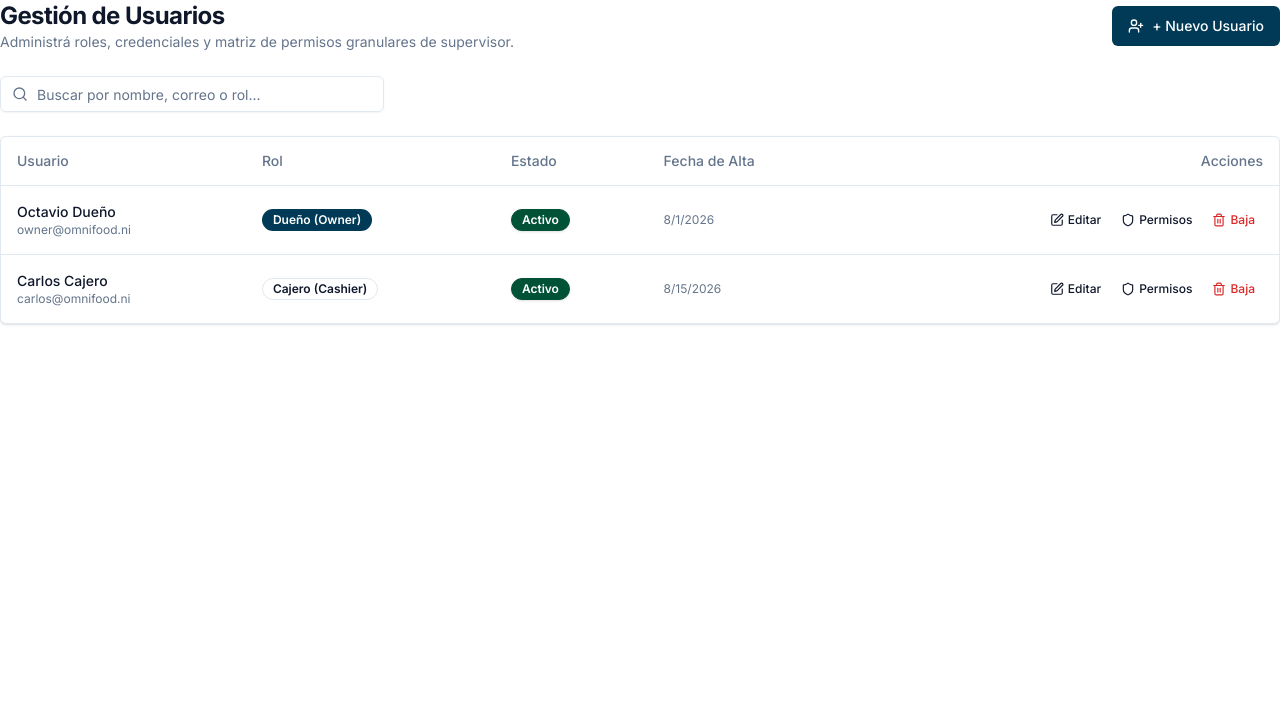
Test case: W8 — Users & Permissions Integration Suite (Real React Query + UI) › opens create user modal, enforces Zod validation, and shows error alert on invalid PIN
The image size is (1280, 720).
Expected: the text "+ Nuevo Usuario" is shown, [1152, 16, 1264, 36]
Click the button "+ Nuevo Usuario" at [1196, 26], box [1112, 6, 1279, 46]
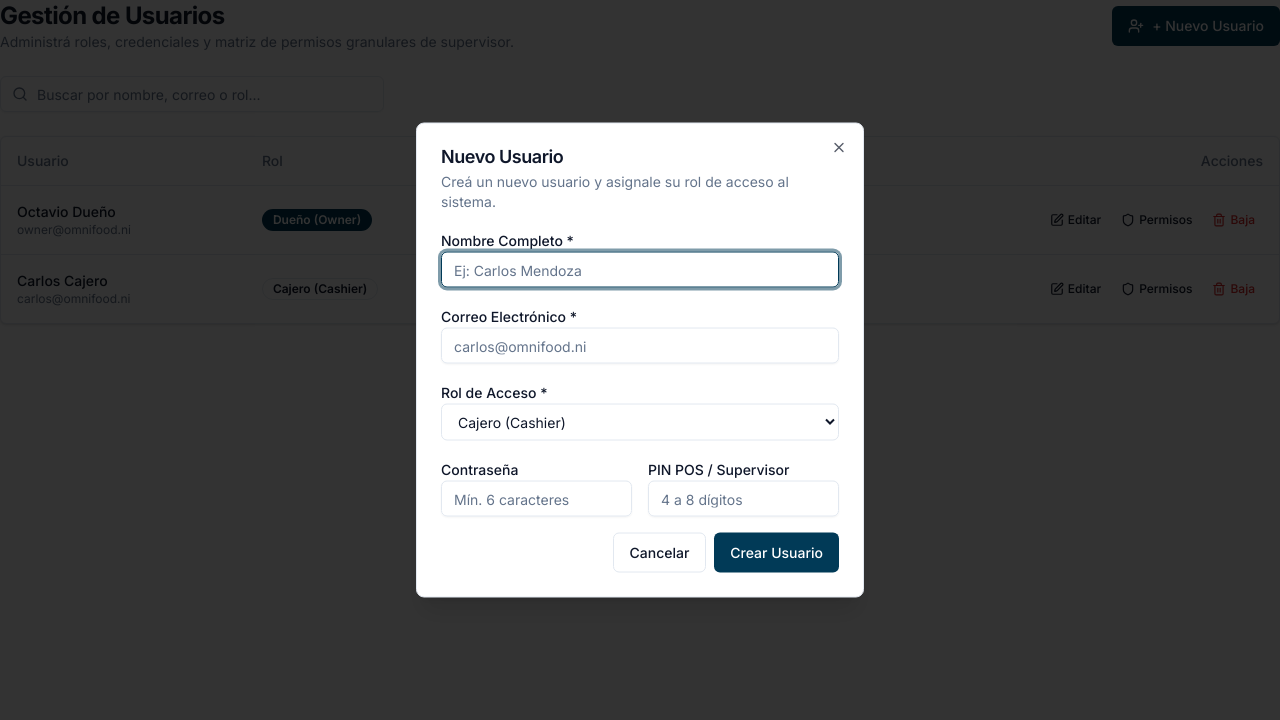
Now the heading "Nuevo Usuario" is shown, box [441, 146, 563, 166]
Type "A" into the field with placeholder "Ej: Carlos Mendoza" at [640, 270], box [441, 252, 839, 288]
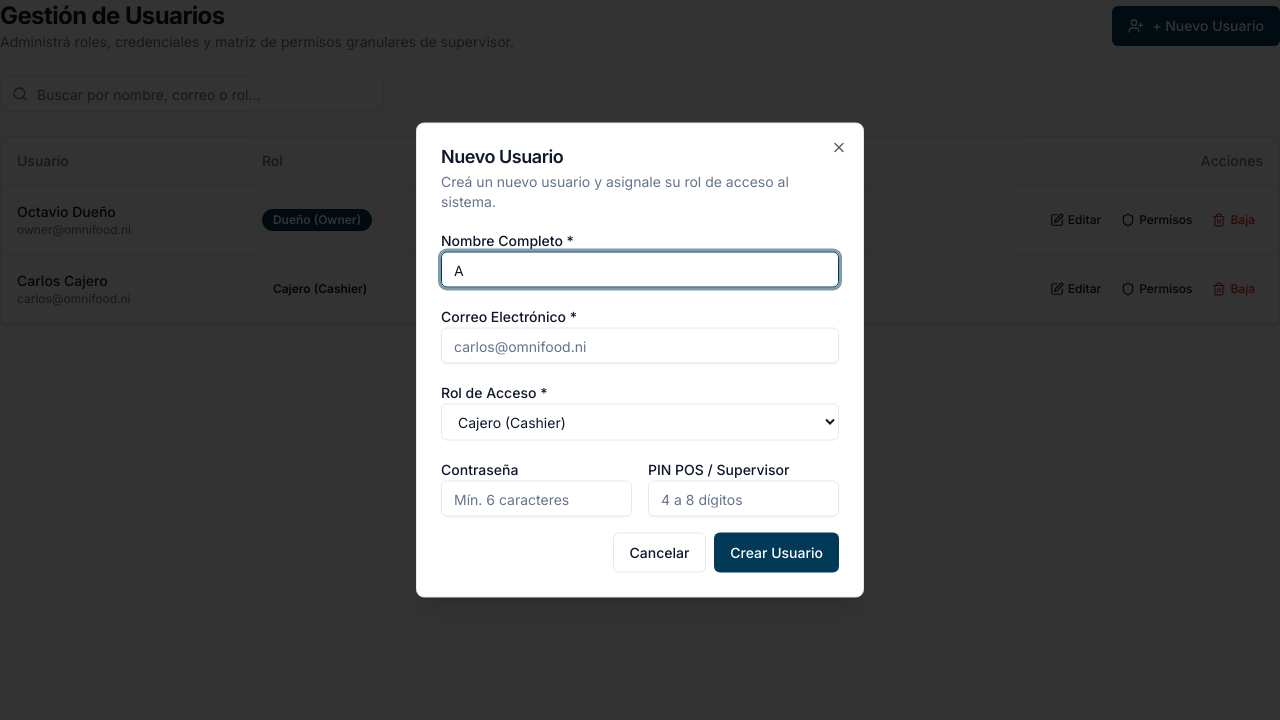
Type "valida@omnifood.ni" into the field with placeholder "carlos@omnifood.ni" at [640, 346], box [441, 328, 839, 364]
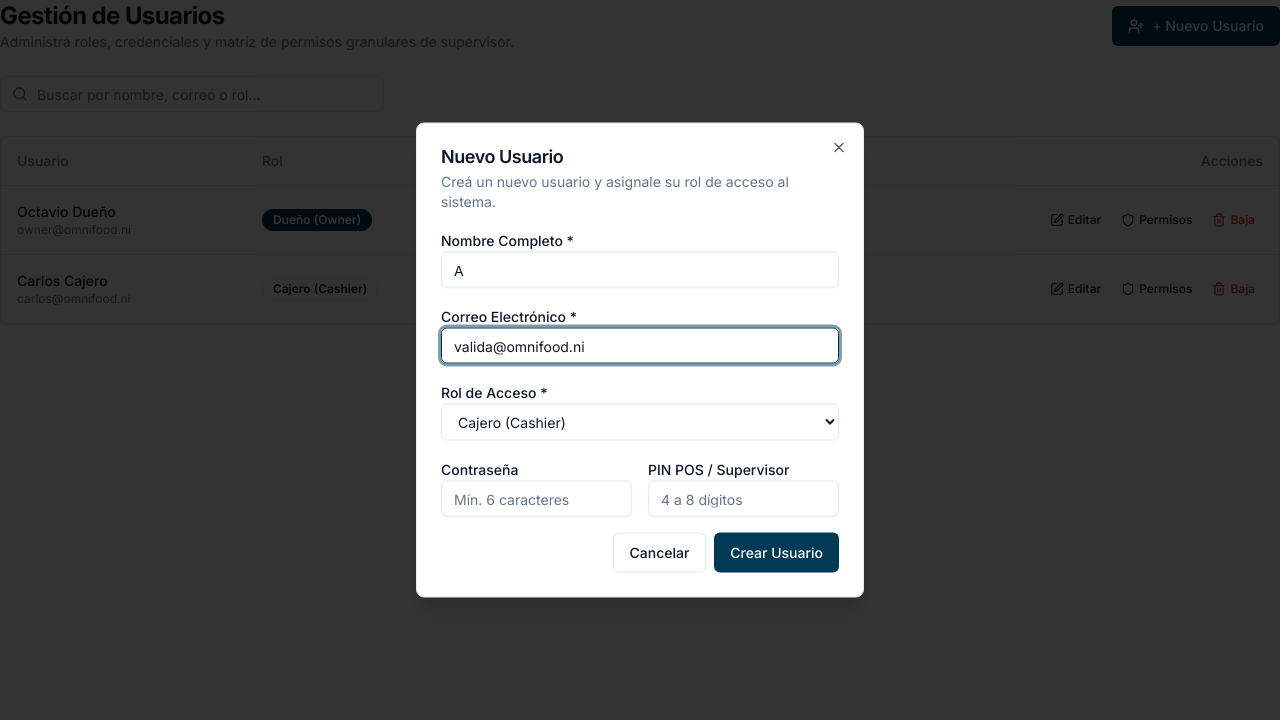
Type "12" into the password field with placeholder "4 a 8 dígitos" at [744, 498], box [648, 480, 839, 516]
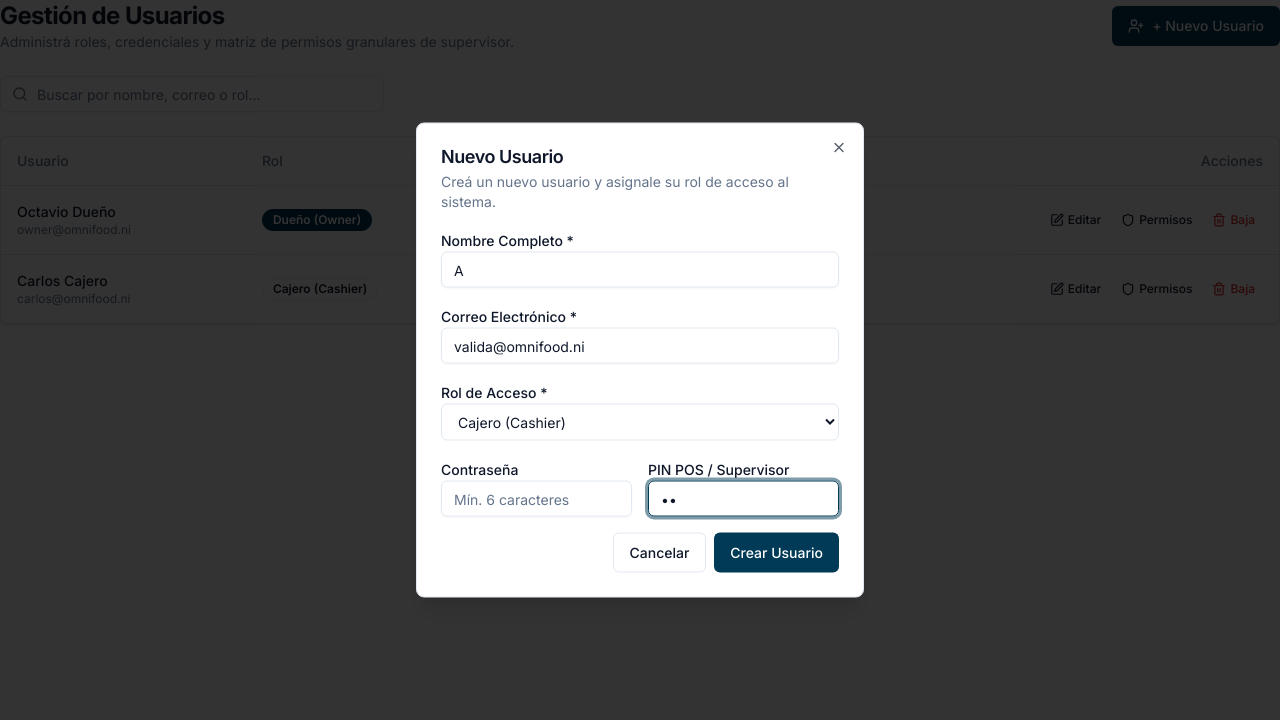
Click the button "Crear Usuario" at [777, 552], box [714, 532, 839, 572]
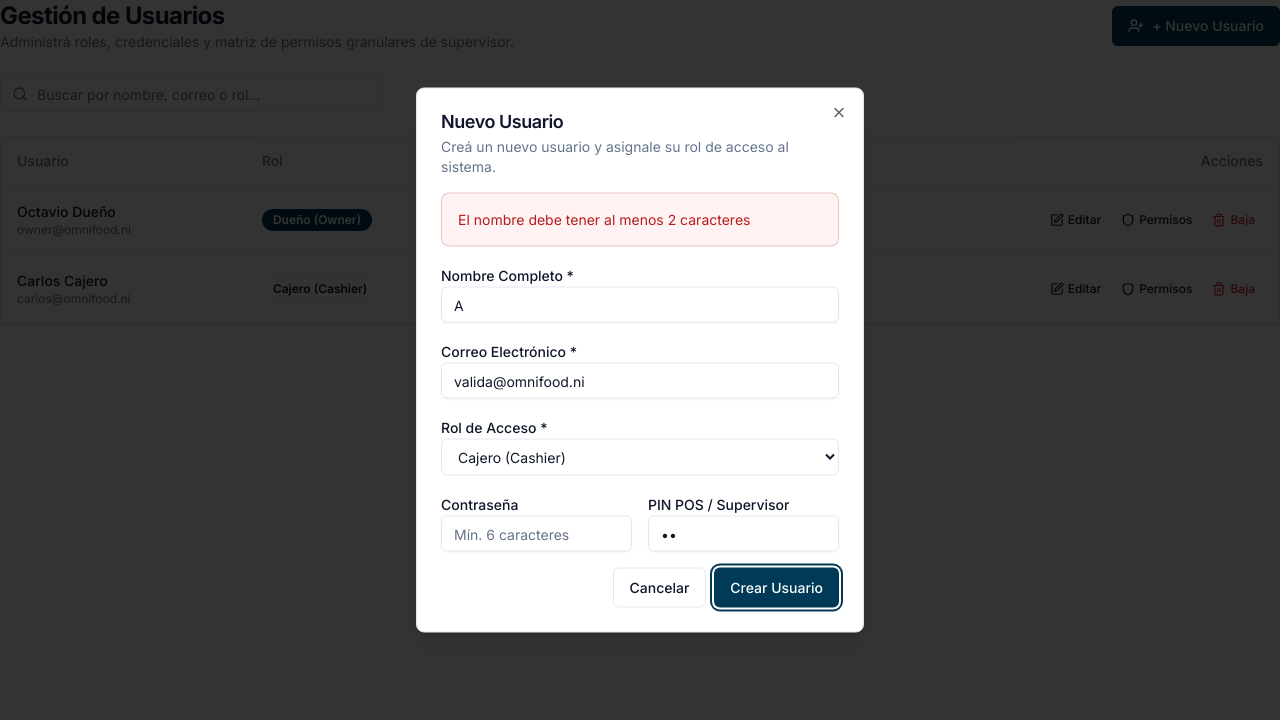
Now the text "El nombre debe tener al menos 2 caracteres" is shown, box [458, 210, 750, 228]
